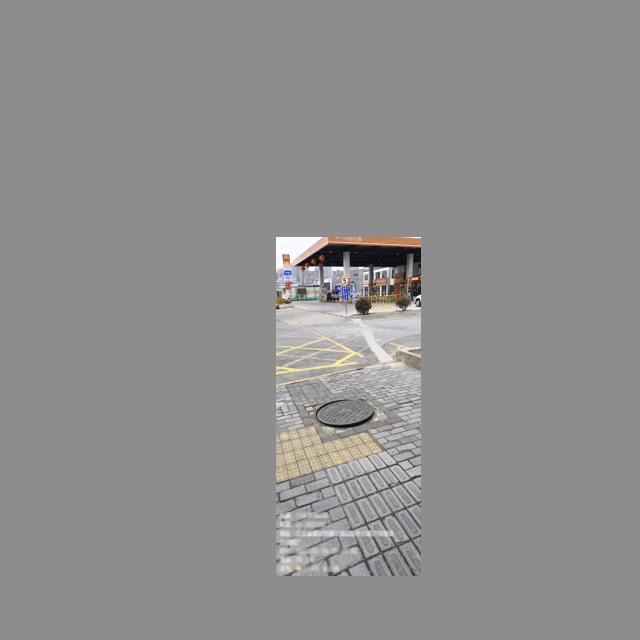uncovered: (310, 395, 376, 434)
